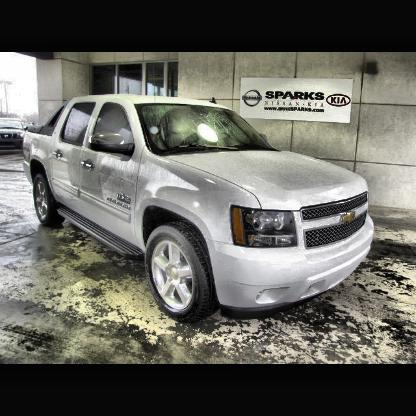Chevrolet Avalanche Crew Cab 2012: (24, 95, 373, 325)
